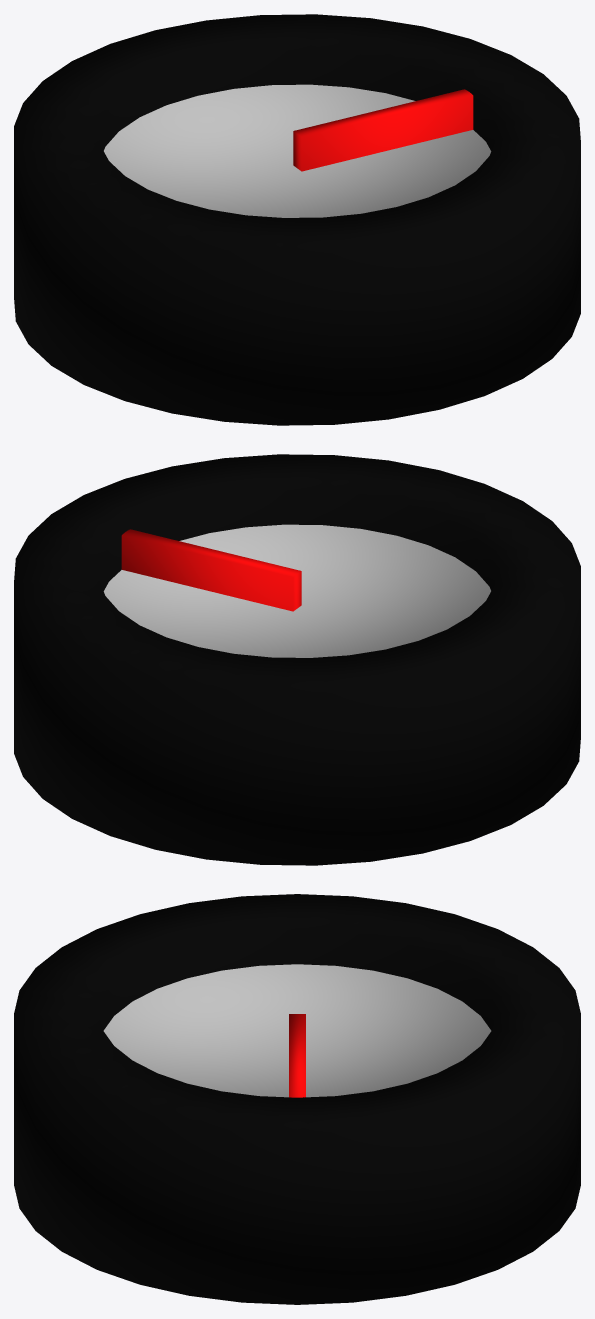
The model's file is wheel.dae.
3 views of the same model, one above another, from view 1: azimuth 30°, elevation 25°; view 2: azimuth 150°, elevation 25°; view 3: azimuth 270°, elevation 25° (orthographic).
Parts seen in each view (by area): view 1: wheel-node; view 2: wheel-node; view 3: wheel-node.
Part boxes in pixels (bbox=[...]): wheel-node: bbox=[14, 14, 580, 425]; wheel-node: bbox=[14, 454, 580, 865]; wheel-node: bbox=[14, 894, 580, 1304].
Size of the model in its own units: 0.3 by 0.3 by 0.1.
